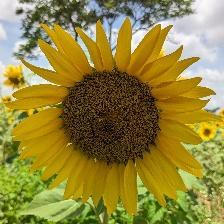sunflower: (16, 25, 213, 208)
